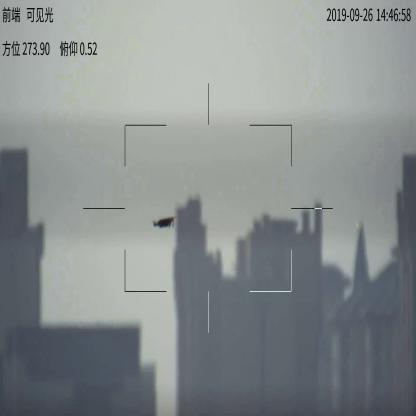uav: (149, 211, 177, 230)
